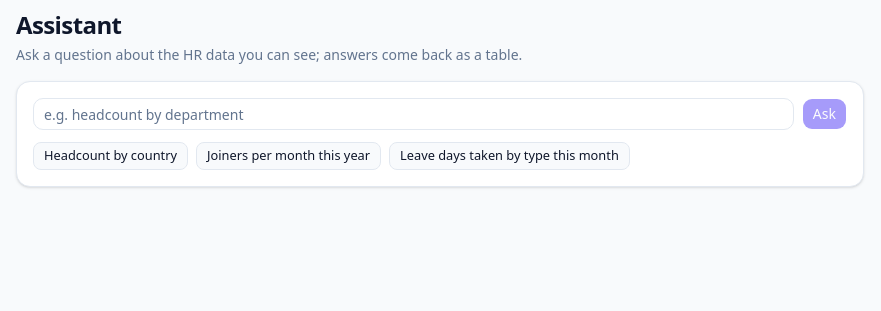
AssistantPage › shows the API error in the question card
The image size is (881, 311).
Type "headcount by country" into the field named "Question" at (413, 114), box left=33, top=98, right=794, bottom=130
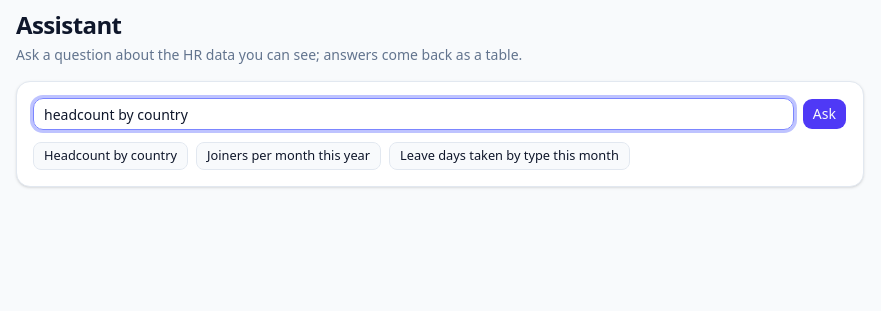
Click the button "Ask" at (824, 114), box left=802, top=98, right=847, bottom=130
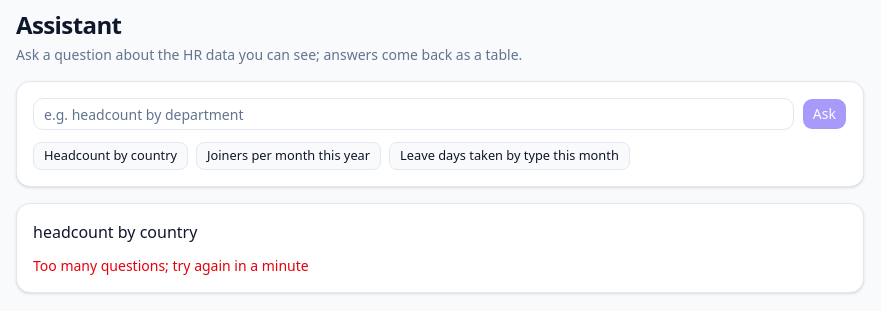
Expected: the message reads "Too many questions; try again in a minute", left=33, top=256, right=309, bottom=275
